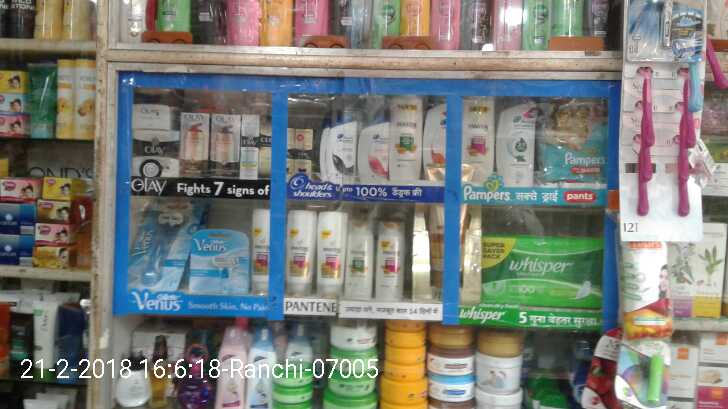venus: (626, 62, 701, 224), (134, 195, 191, 293), (191, 230, 249, 293), (707, 36, 728, 83)
